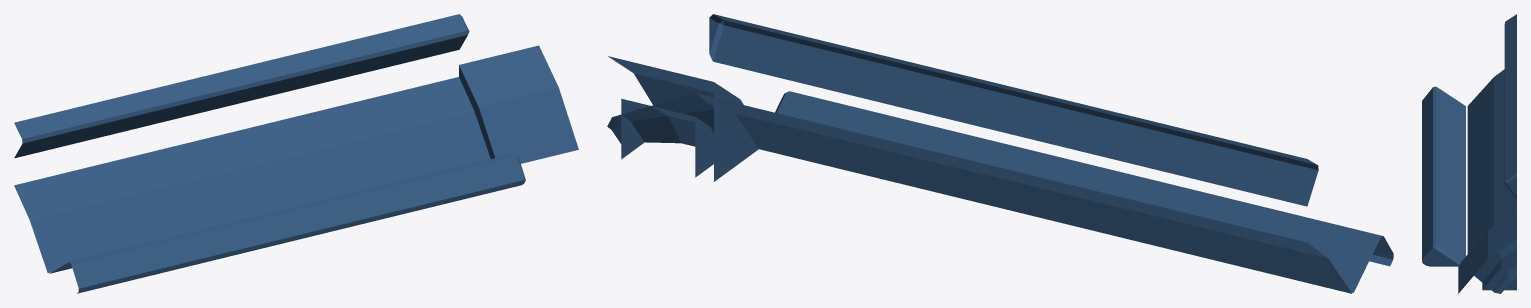
Rendered from cell_61.obj.
3 renders of one model, left to right at view 1: azimuth 30°, elevation 25°; view 2: azimuth 150°, elevation 25°; view 3: azimuth 270°, elevation 25°, orthographic. The views are drawn at different scales.
Size of the model in its own units: 1 by 0.2291 by 0.2138.
